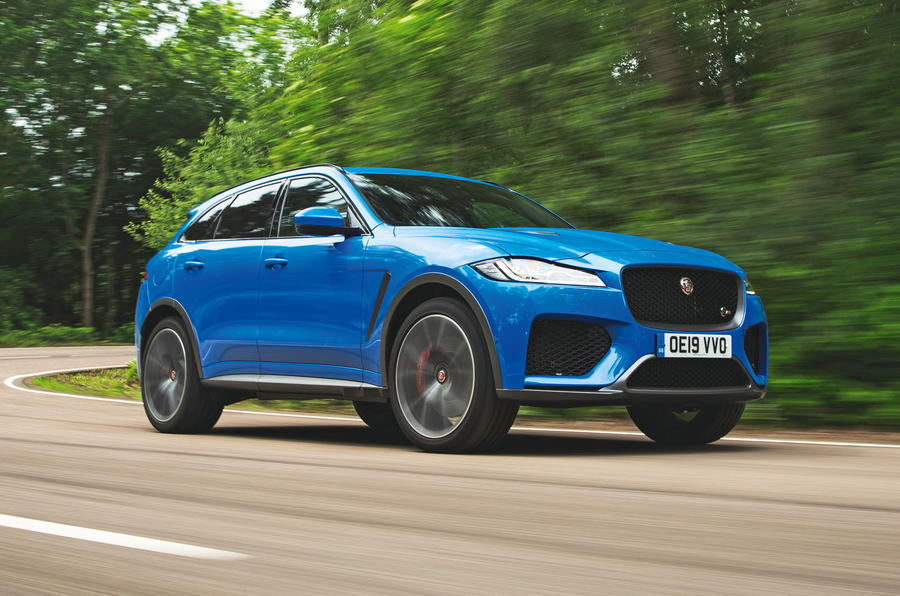car: (132, 163, 769, 456)
